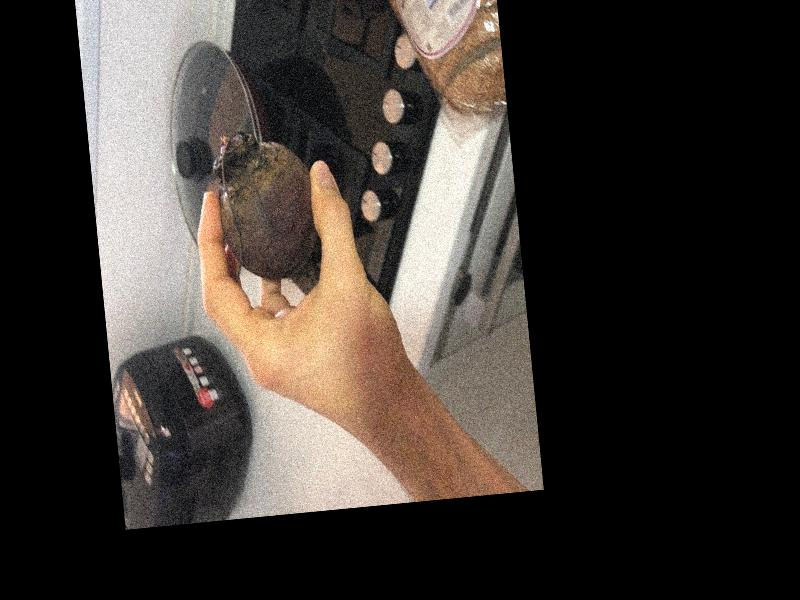Beet: (212, 125, 321, 293)
